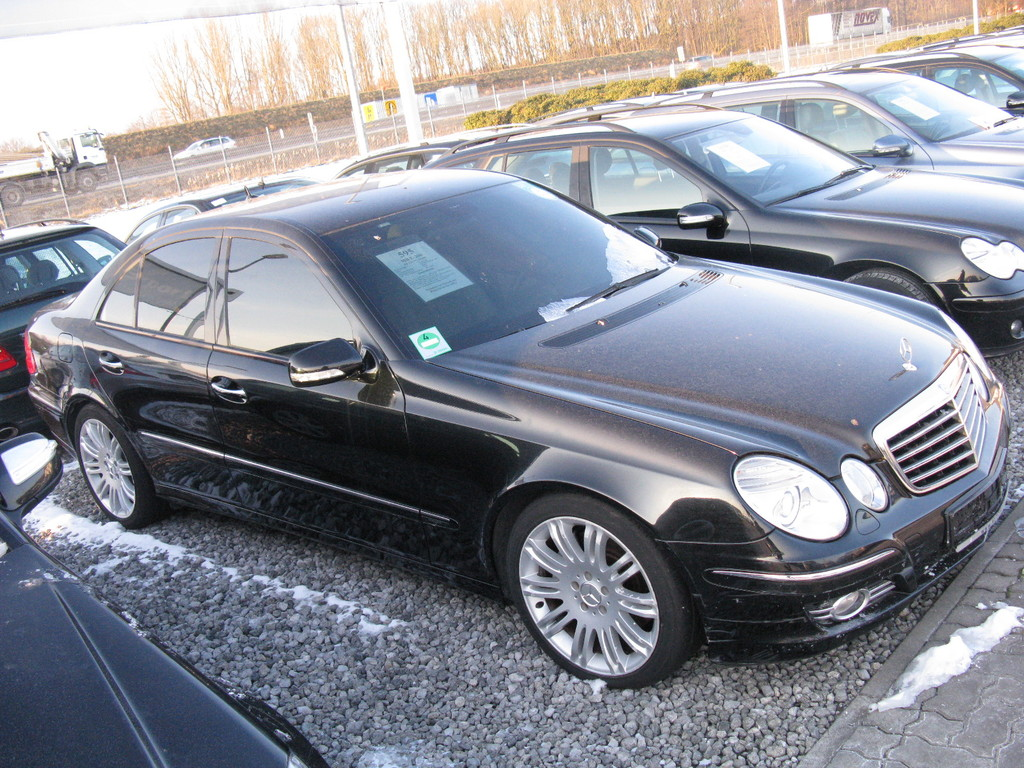mobil: (47, 153, 1007, 697)
